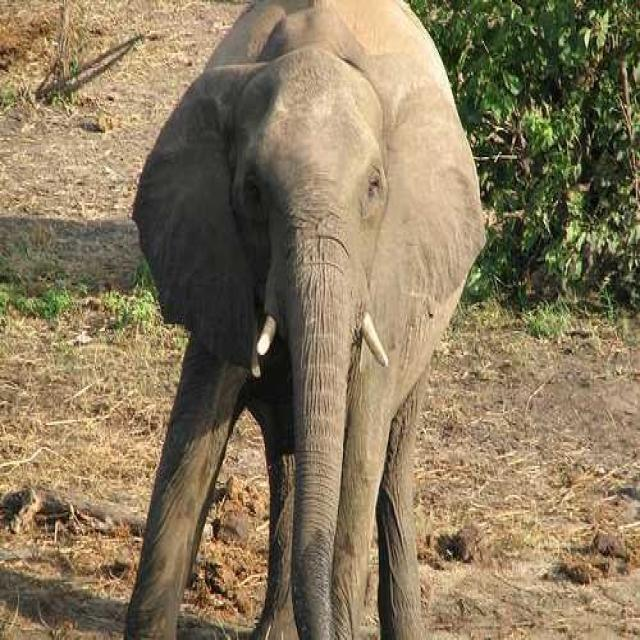Elephant: (121, 0, 486, 638)
